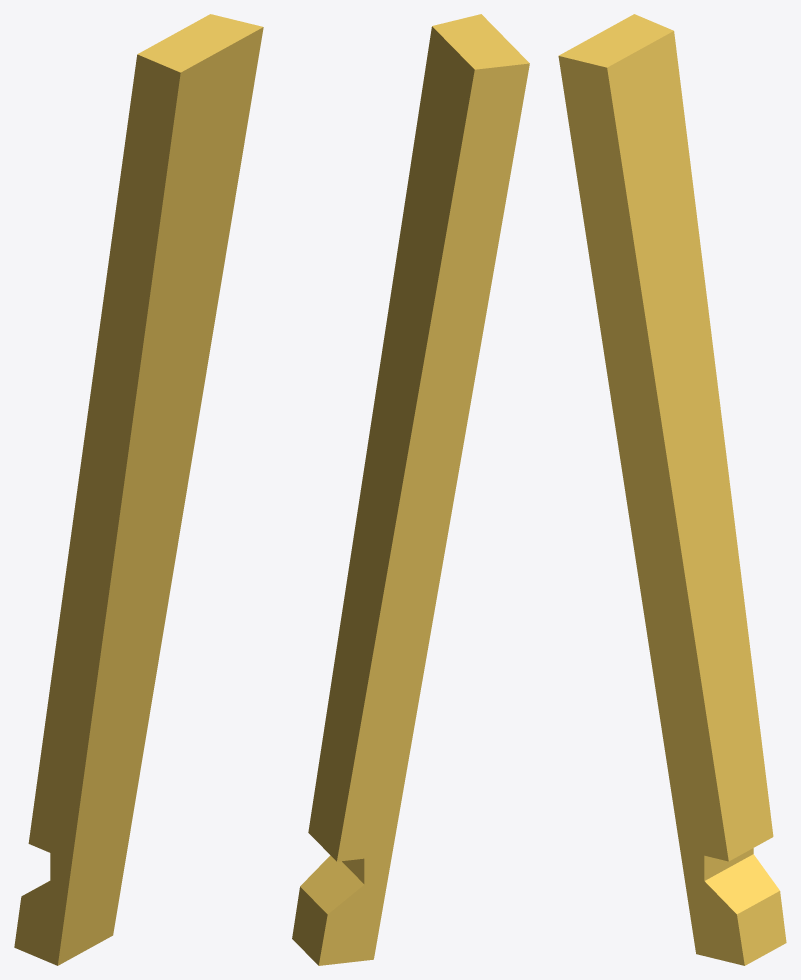
File: original-12.obj
The picture shows the model from 3 angles, left to right: view 1: azimuth 90°, elevation 25°; view 2: azimuth 150°, elevation 25°; view 3: azimuth 270°, elevation 25°; orthographic projection. The views are drawn at different scales.
Parts seen in each view (by area): view 1: Group_53_6/Group_53/mesh88/mesh88-geometry#mesh88-geometry; view 2: Group_53_6/Group_53/mesh88/mesh88-geometry#mesh88-geometry; view 3: Group_53_6/Group_53/mesh88/mesh88-geometry#mesh88-geometry.
Part boxes in pixels (left/top/right/bottom): Group_53_6/Group_53/mesh88/mesh88-geometry#mesh88-geometry: left=14, top=14, right=263, bottom=965; Group_53_6/Group_53/mesh88/mesh88-geometry#mesh88-geometry: left=292, top=14, right=529, bottom=965; Group_53_6/Group_53/mesh88/mesh88-geometry#mesh88-geometry: left=558, top=14, right=786, bottom=965.
Size of the model in its own units: 0.2003 by 0.9253 by 0.2213.
